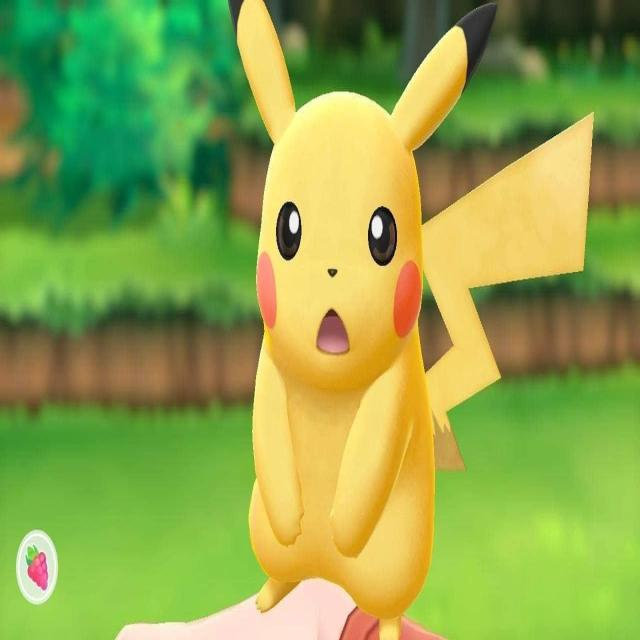pikachu: (224, 0, 590, 639)
